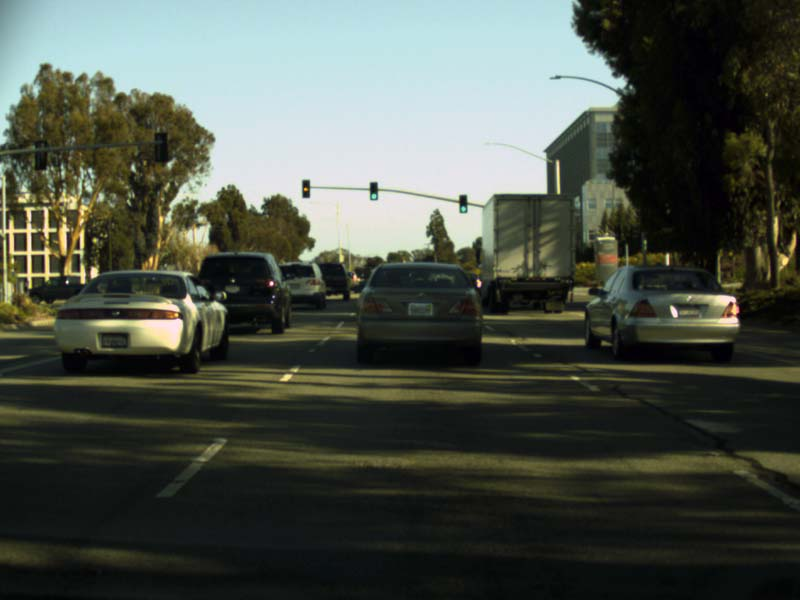Green: (369, 181, 378, 200), (458, 194, 467, 213)
Yellow: (301, 179, 310, 197)
